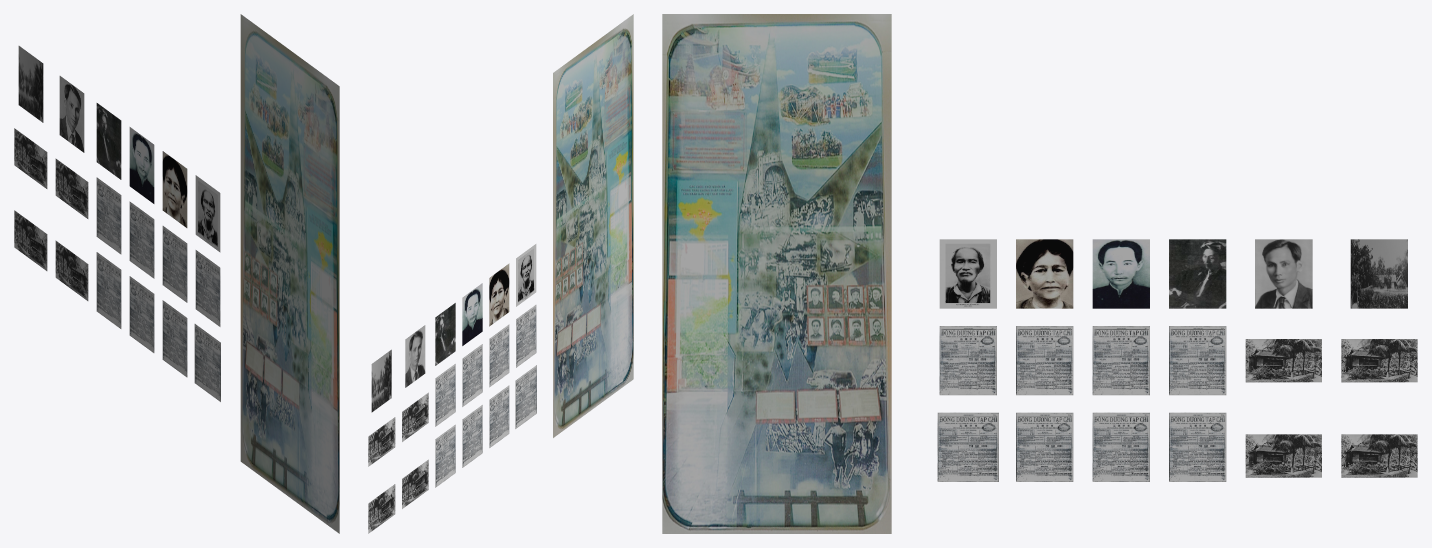
File: PhongThuNhatCD.glb
The picture shows the model from 3 angles, left to right: view 1: azimuth 30°, elevation 25°; view 2: azimuth 150°, elevation 25°; view 3: azimuth 270°, elevation 25°; orthographic projection. The views are drawn at different scales.
Visible parts, largest first — view 1: Plane.005, Plane.002, Plane.003, Plane.010, Plane.018, Plane.019, Plane.016, Plane.011, Plane.004, Plane.008, Plane.015, Plane.022 (+7 smaller); view 2: Plane.005, Plane.002, Plane.003, Plane.015, Plane.004, Plane.019, Plane.023, Plane.016, Plane.011, Plane.012, Plane.008, Plane.013 (+7 smaller); view 3: Plane.005, Plane.002, Plane.016, Plane.010, Plane.011, Plane.012, Plane.022, Plane.023, Plane.003, Plane.004, Plane.008, Plane.013 (+7 smaller).
Boxes of the visible parts, <box> form: Plane.005: <box>240,14,339,533</box>; Plane.002: <box>194,324,220,401</box>; Plane.003: <box>162,300,187,377</box>; Plane.010: <box>195,175,220,252</box>; Plane.018: <box>129,201,154,278</box>; Plane.019: <box>96,177,121,254</box>; Plane.016: <box>96,103,121,179</box>; Plane.011: <box>162,151,187,227</box>; Plane.004: <box>129,276,154,352</box>; Plane.008: <box>96,252,121,328</box>; Plane.015: <box>162,226,187,302</box>; Plane.022: <box>59,76,84,152</box>; Plane.005: <box>553,14,633,437</box>; Plane.002: <box>515,365,536,428</box>; Plane.003: <box>489,385,509,447</box>; Plane.015: <box>489,324,509,387</box>; Plane.004: <box>462,405,482,467</box>; Plane.019: <box>435,364,455,426</box>; Plane.023: <box>371,349,391,412</box>; Plane.016: <box>435,303,455,365</box>; Plane.011: <box>489,263,509,326</box>; Plane.012: <box>462,283,482,345</box>; Plane.008: <box>435,424,455,487</box>; Plane.013: <box>516,305,536,367</box>; Plane.005: <box>662,14,891,533</box>; Plane.002: <box>937,412,998,481</box>; Plane.016: <box>1169,239,1226,308</box>; Plane.010: <box>939,239,996,308</box>; Plane.011: <box>1016,239,1073,308</box>; Plane.012: <box>1092,239,1149,308</box>; Plane.022: <box>1255,239,1312,308</box>; Plane.023: <box>1350,239,1407,308</box>; Plane.003: <box>1016,412,1073,481</box>; Plane.004: <box>1092,412,1149,481</box>; Plane.008: <box>1169,412,1226,481</box>; Plane.013: <box>939,326,996,395</box>.
Size of the model in its own units: 0.000698 by 3 by 3.95.
Materials: 19 (19 with a texture image).
